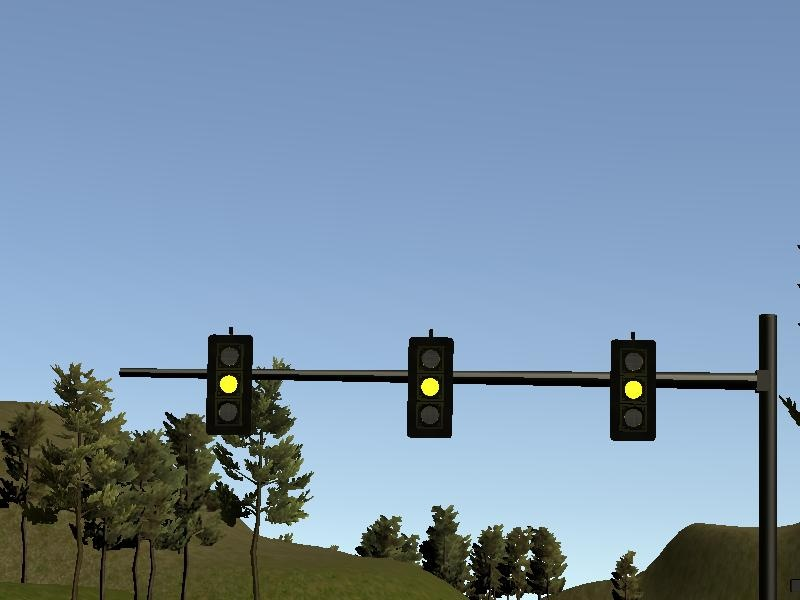YELLOW: (206, 334, 255, 438), (406, 337, 455, 441), (606, 338, 655, 442)
